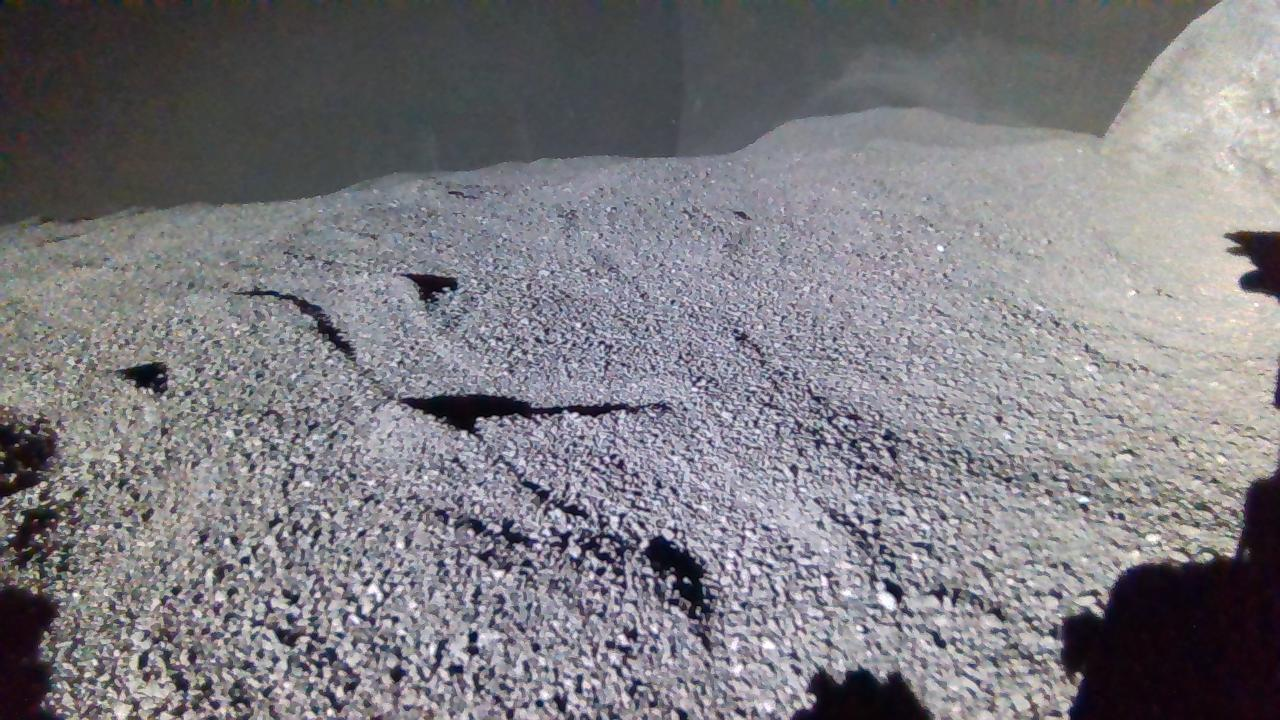rock: (1100, 0, 1280, 210)
